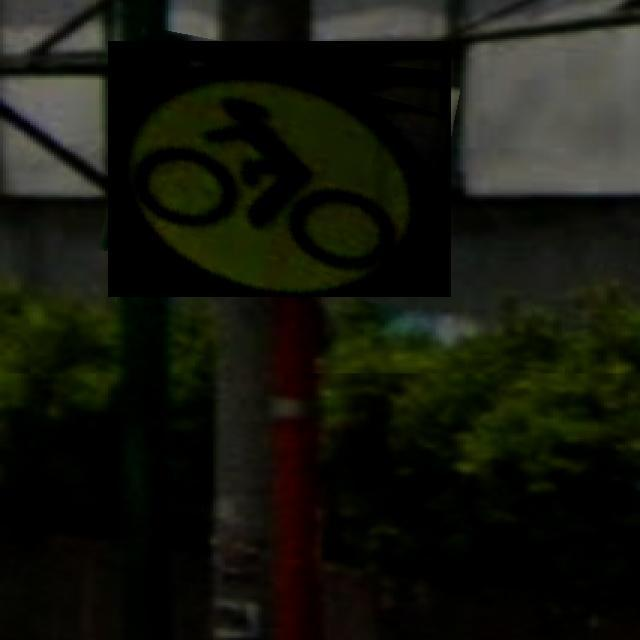bike lane: (108, 41, 451, 297)
